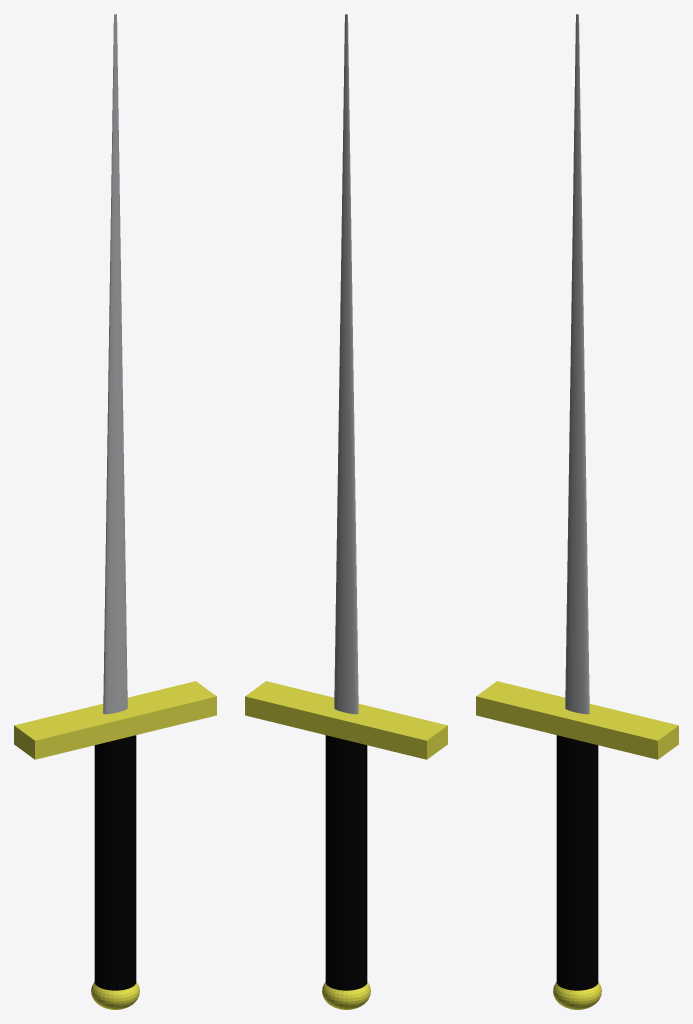
Rendered from daga.glb.
The picture shows the model from 3 angles, left to right: view 1: azimuth 30°, elevation 25°; view 2: azimuth 150°, elevation 25°; view 3: azimuth 330°, elevation 25°; orthographic projection.
Parts seen in each view (by area): view 1: Daga_Empunadura, Daga_Hoja, Daga_Guarda, Daga_Pomelo; view 2: Daga_Empunadura, Daga_Hoja, Daga_Guarda, Daga_Pomelo; view 3: Daga_Empunadura, Daga_Hoja, Daga_Guarda, Daga_Pomelo.
Part boxes in pixels (left/top/right/bottom): Daga_Empunadura: left=94, top=735, right=136, bottom=990; Daga_Hoja: left=103, top=14, right=127, bottom=714; Daga_Guarda: left=14, top=681, right=216, bottom=759; Daga_Pomelo: left=91, top=982, right=139, bottom=1009; Daga_Empunadura: left=325, top=735, right=367, bottom=990; Daga_Hoja: left=334, top=14, right=358, bottom=714; Daga_Guarda: left=245, top=681, right=447, bottom=759; Daga_Pomelo: left=322, top=982, right=370, bottom=1009; Daga_Empunadura: left=556, top=735, right=598, bottom=990; Daga_Hoja: left=565, top=14, right=589, bottom=714; Daga_Guarda: left=476, top=681, right=678, bottom=759; Daga_Pomelo: left=553, top=982, right=601, bottom=1009.
Size of the model in its own units: 0.6 by 3.13 by 0.14.
